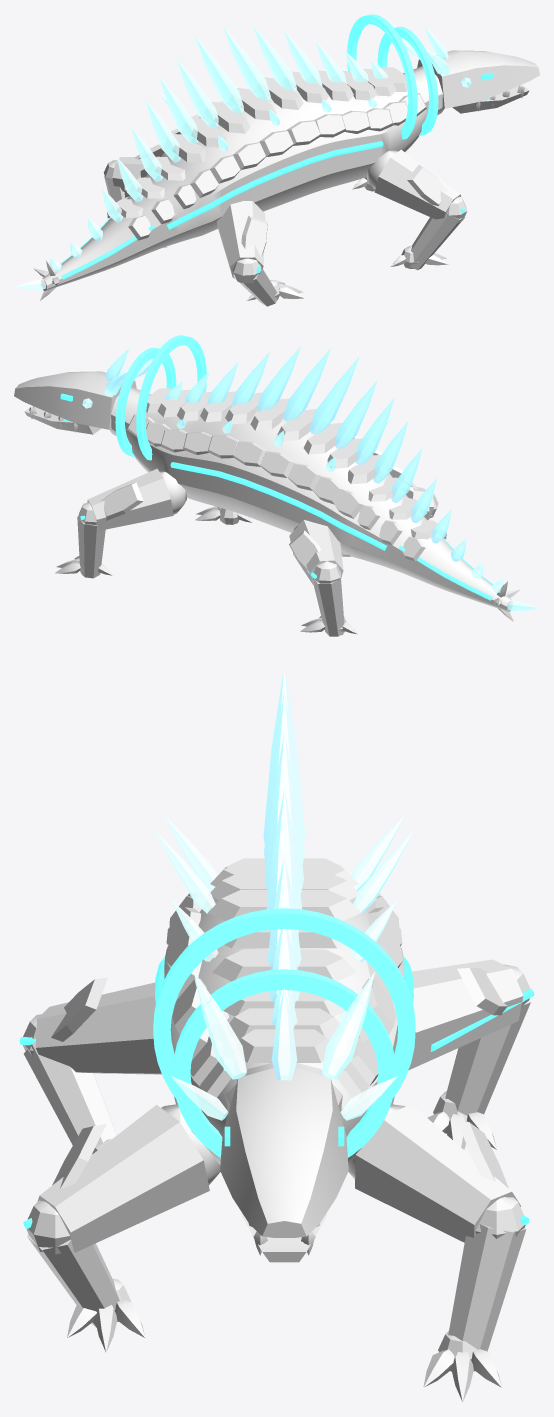
File: kaiju.glb
3 views of the same model, one above another, from view 1: azimuth 30°, elevation 25°; view 2: azimuth 150°, elevation 25°; view 3: azimuth 270°, elevation 25° (orthographic). The views are drawn at different scales.
Visible parts, largest first — view 1: ka__ka_peau, ka__ka_blind, ka__ka_cristal, ka__ka_blind2, ka__ka_anneau, ka__ka_chair, ka__ka_conduit, ka__ka_os, ka__ka_conduit_turq, ka__ka_struct; view 2: ka__ka_peau, ka__ka_blind, ka__ka_cristal, ka__ka_blind2, ka__ka_anneau, ka__ka_chair, ka__ka_conduit, ka__ka_os, ka__ka_conduit_turq; view 3: ka__ka_peau, ka__ka_blind, ka__ka_cristal, ka__ka_anneau, ka__ka_blind2, ka__ka_os, ka__ka_chair, ka__ka_conduit, ka__ka_struct.
Boxes of the visible parts, x1,y1,x2,y2 form: ka__ka_peau: [41, 86, 465, 306]; ka__ka_blind: [116, 50, 539, 218]; ka__ka_cristal: [15, 22, 471, 290]; ka__ka_blind2: [107, 84, 529, 256]; ka__ka_anneau: [347, 14, 438, 139]; ka__ka_chair: [103, 66, 467, 283]; ka__ka_conduit: [167, 72, 493, 273]; ka__ka_os: [33, 85, 524, 300]; ka__ka_conduit_turq: [60, 20, 430, 279]; ka__ka_struct: [270, 181, 418, 300]; ka__ka_peau: [77, 407, 512, 636]; ka__ka_blind: [14, 371, 437, 539]; ka__ka_cristal: [82, 343, 538, 611]; ka__ka_blind2: [24, 405, 446, 571]; ka__ka_anneau: [115, 335, 206, 460]; ka__ka_chair: [78, 387, 438, 583]; ka__ka_conduit: [60, 393, 386, 578]; ka__ka_os: [29, 406, 520, 634]; ka__ka_conduit_turq: [123, 341, 493, 600]; ka__ka_peau: [24, 897, 530, 1351]; ka__ka_blind: [208, 858, 360, 1237]; ka__ka_cristal: [155, 666, 413, 1120]; ka__ka_anneau: [153, 908, 415, 1157]; ka__ka_blind2: [51, 893, 508, 1262]; ka__ka_os: [67, 1111, 501, 1402]; ka__ka_chair: [23, 964, 530, 1254]; ka__ka_conduit: [19, 956, 534, 1228]; ka__ka_struct: [92, 1091, 486, 1371].
Size of the model in its own units: 24.29 by 10.98 by 10.4.
